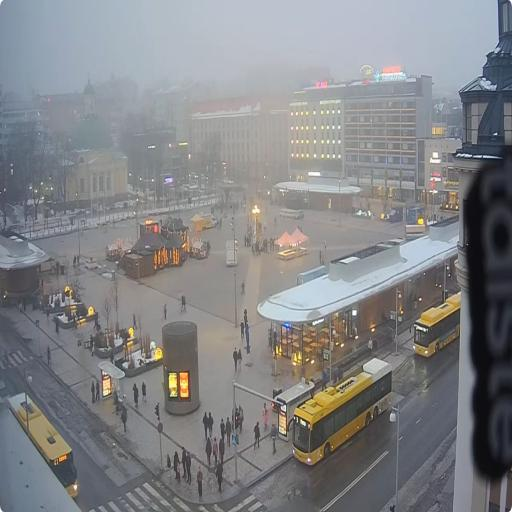Bus: (293, 358, 391, 464), (8, 393, 76, 497), (413, 292, 460, 355)
